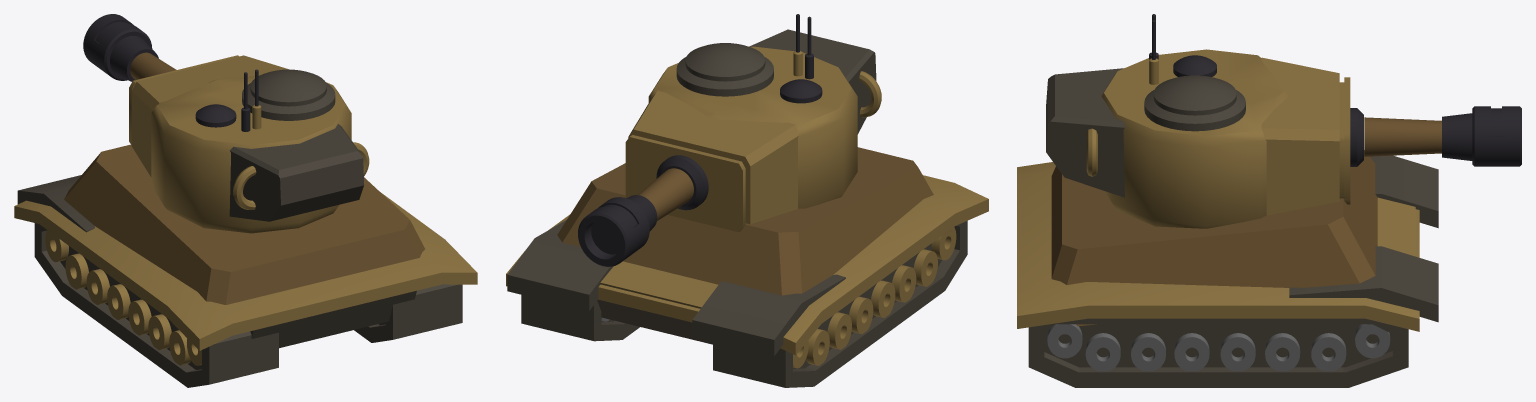
File: tower_4.fbx
The picture shows the model from 3 angles, left to right: view 1: azimuth 30°, elevation 25°; view 2: azimuth 150°, elevation 25°; view 3: azimuth 270°, elevation 25°; orthographic projection. The views are drawn at different scales.
Visible parts, largest first — view 1: 油桶_7; view 2: 油桶_7; view 3: 油桶_7.
Part boxes in pixels (<box>): 油桶_7: <box>14,14,477,387</box>; 油桶_7: <box>506,14,988,387</box>; 油桶_7: <box>1017,14,1521,387</box>.
Size of the model in its own units: 69.26 by 63.41 by 100.
